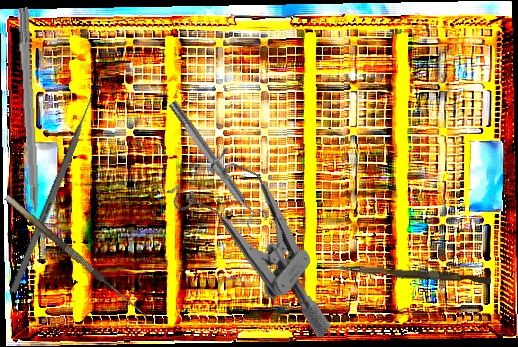Fixation Ring: (162, 94, 270, 233)
Hook Surgical: (4, 186, 155, 321)
Pusher: (9, 80, 102, 294), (15, 7, 42, 247), (330, 264, 492, 285)
Speculum: (153, 134, 379, 340)
